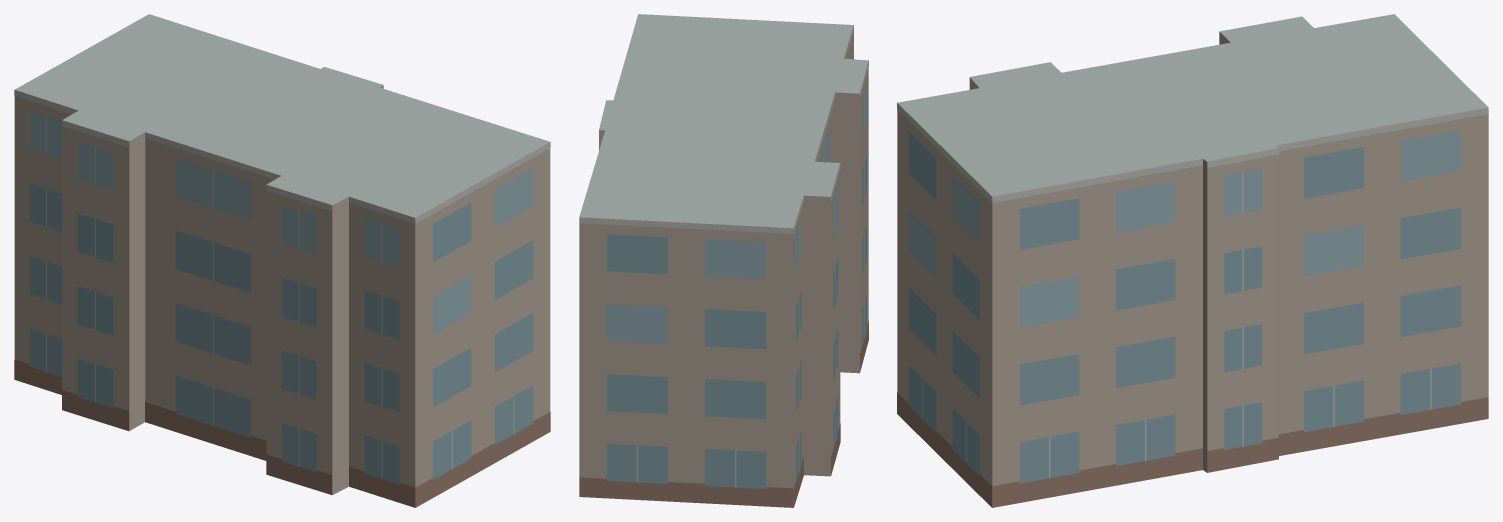
The model's file is survey-upis-32706312.glb.
3 views of the same model, side by side, from view 1: azimuth 30°, elevation 25°; view 2: azimuth 150°, elevation 25°; view 3: azimuth 270°, elevation 25° (orthographic). The views are drawn at different scales.
Visible parts, largest first — view 1: survey-upis-32706312.tmp; view 2: survey-upis-32706312.tmp; view 3: survey-upis-32706312.tmp.
Boxes of the visible parts, x1,y1,x2,y2 form: survey-upis-32706312.tmp: (14,14,550,507); survey-upis-32706312.tmp: (579,14,868,507); survey-upis-32706312.tmp: (897,14,1488,507).
Bounding box in the file's own units: 14.73 × 11.7 × 20.16.
